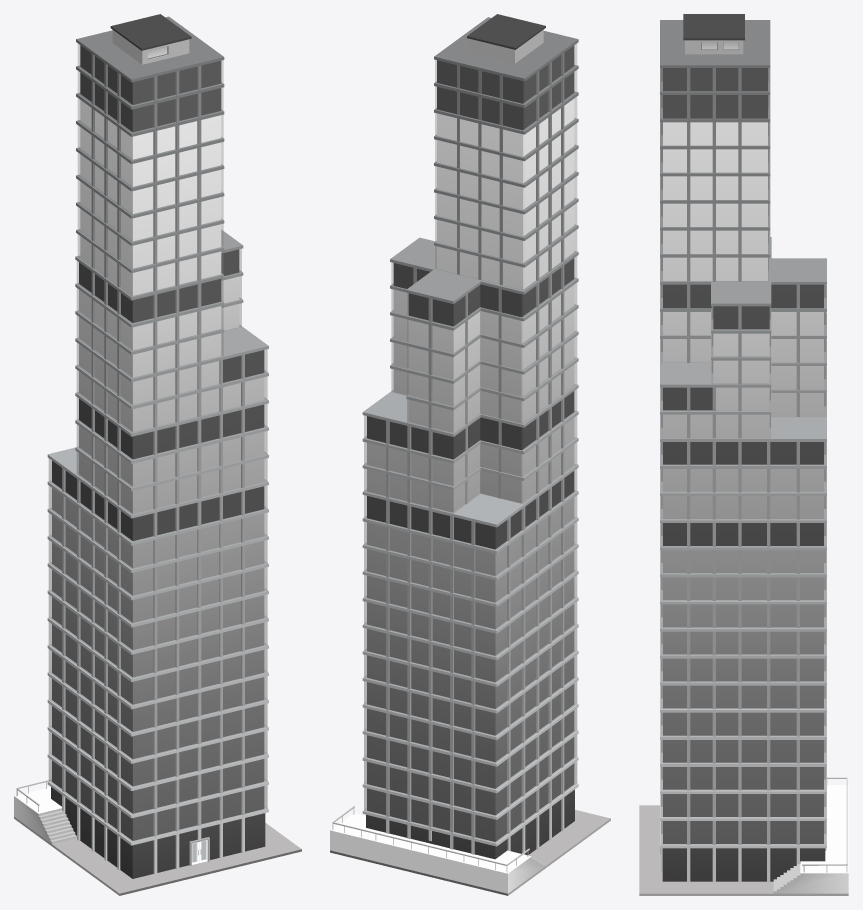
File: Building_Skyscraper_05.glb
3 renders of one model, left to right at view 1: azimuth 30°, elevation 25°; view 2: azimuth 150°, elevation 25°; view 3: azimuth 270°, elevation 25°, orthographic. The views are drawn at different scales.
Visible parts, largest first — view 1: Building_Skyscraper_05; view 2: Building_Skyscraper_05; view 3: Building_Skyscraper_05.
Boxes of the visible parts, <box> form: Building_Skyscraper_05: <box>14,14,301,895</box>; Building_Skyscraper_05: <box>330,14,610,895</box>; Building_Skyscraper_05: <box>639,14,848,895</box>.
Bounding box in the file's own units: 18.73 × 80.52 × 18.77.
2 materials, 2 textured.
